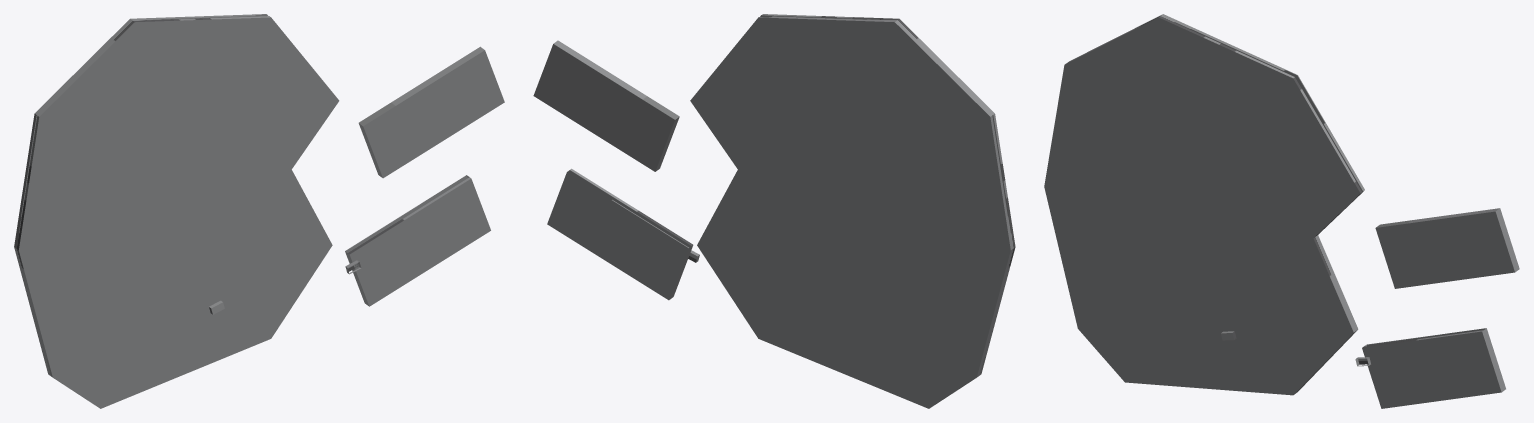
The picture shows the model from 3 angles, left to right: view 1: azimuth 30°, elevation 25°; view 2: azimuth 150°, elevation 25°; view 3: azimuth 330°, elevation 25°; orthographic projection.
Bounding box in the file's own units: 0.8331 × 0.6254 × 0.0343.
